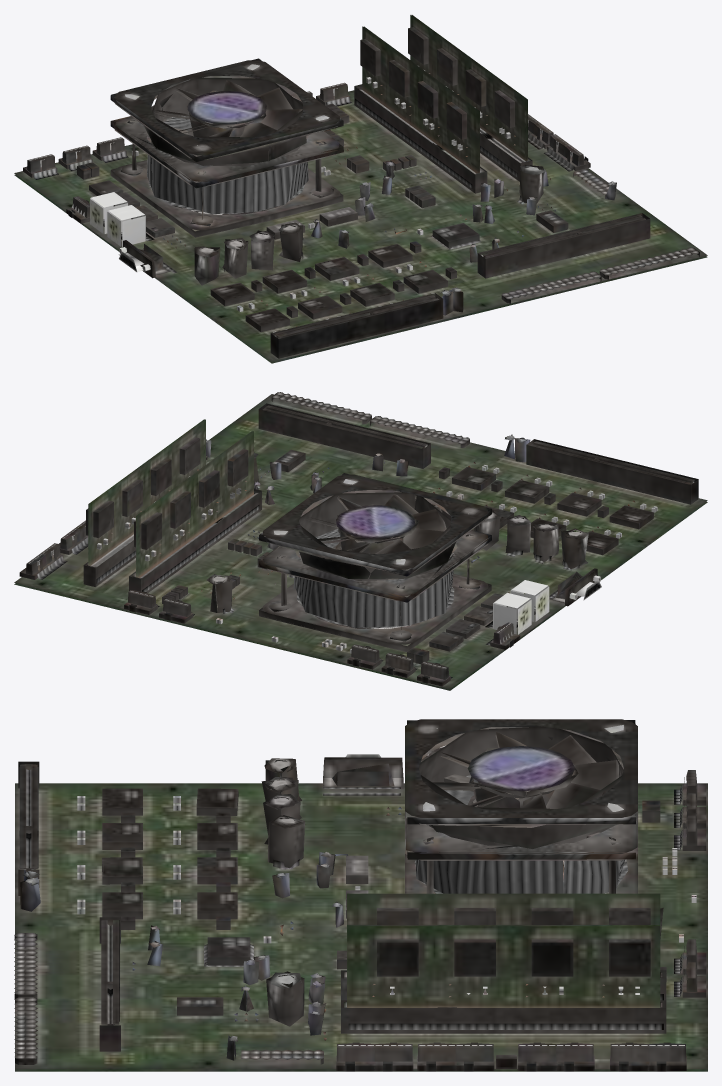
File: x_circuit_board.gltf
3 renders of one model, top to bottom at view 1: azimuth 30°, elevation 25°; view 2: azimuth 150°, elevation 25°; view 3: azimuth 270°, elevation 25°, orthographic. The views are drawn at different scales.
Parts seen in each view (by area): view 1: x_circuit_board; view 2: x_circuit_board; view 3: x_circuit_board.
Boxes of the visible parts, box(x1,y1,x2,y2) form: x_circuit_board: box(14, 15, 707, 363); x_circuit_board: box(14, 392, 707, 690); x_circuit_board: box(14, 719, 707, 1071).
Bounding box in the file's own units: 0.4035 × 0.0776 × 0.3978.
Materials: 2 (2 with a texture image).
